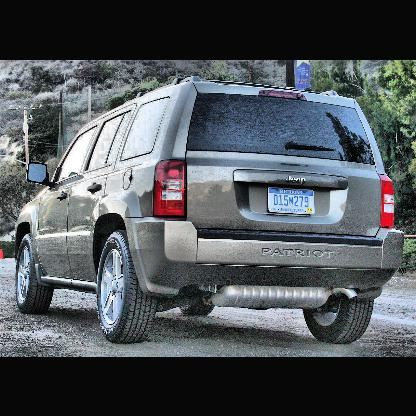Jeep Patriot SUV 2012: (14, 75, 408, 348)
